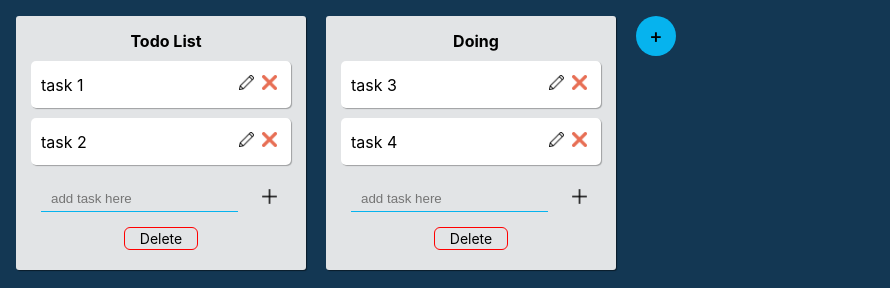
Test case: testing <TrelloBoard /> component › should show input
This screenshot has width=890, height=288.
Click the button with test id "addcardlist-button" at coordinates (656, 36), box [636,16,676,56]
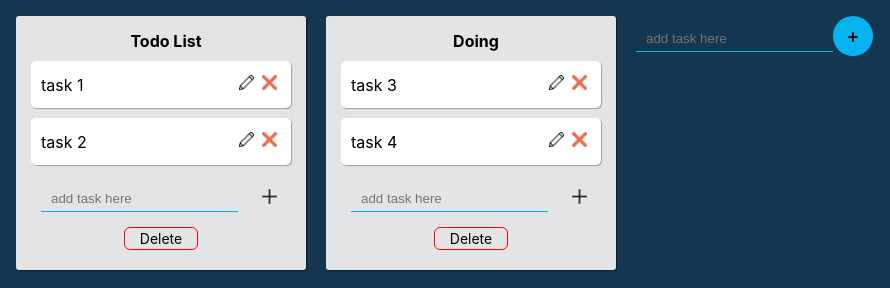
Expected: the field with test id "task-entry" is shown, [636,26,833,52]
